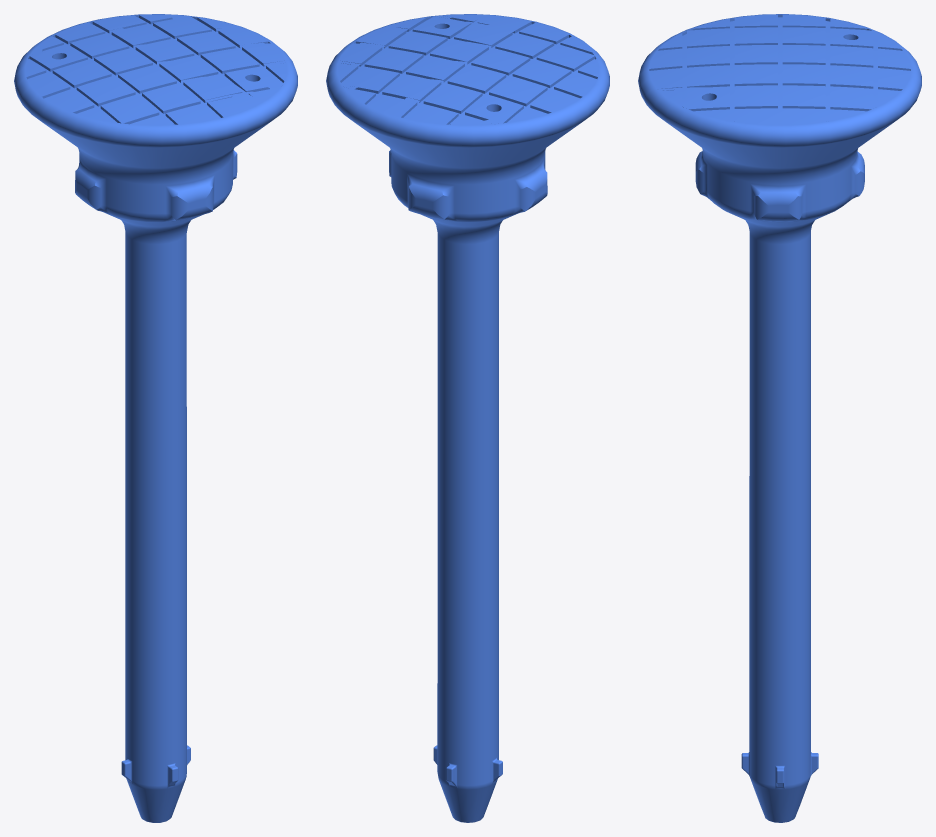
File: Verbinderlang.obj
3 views of the same model, side by side, from view 1: azimuth 30°, elevation 25°; view 2: azimuth 150°, elevation 25°; view 3: azimuth 270°, elevation 25° (orthographic).
Parts seen in each view (by area): view 1: Volumenkörper1; view 2: Volumenkörper1; view 3: Volumenkörper1.
Part boxes in pixels (x1,y1,x2,y2): Volumenkörper1: (14, 14, 297, 822); Volumenkörper1: (326, 14, 609, 822); Volumenkörper1: (638, 14, 921, 822).
Bounding box in the file's own units: 184 × 540 × 184.
